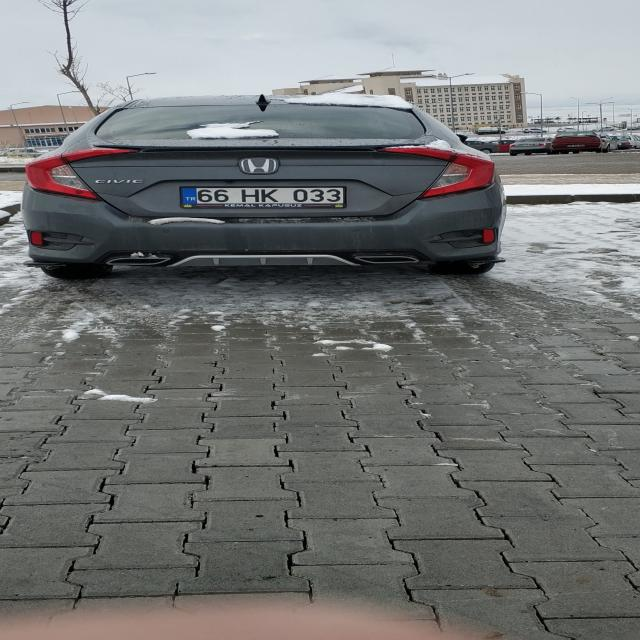plate: (178, 187, 345, 204)
